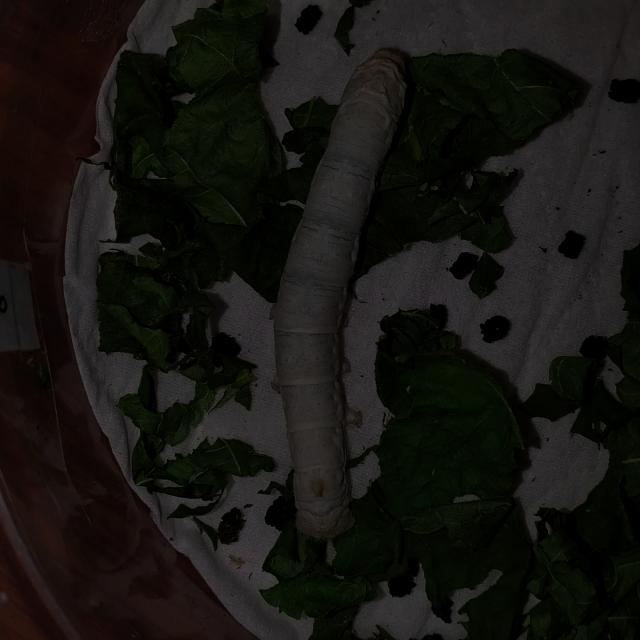Healthy: (233, 27, 425, 564)
